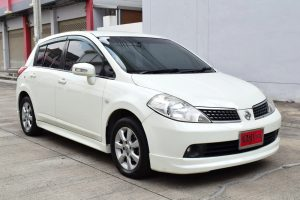sedan: (14, 30, 282, 179)
